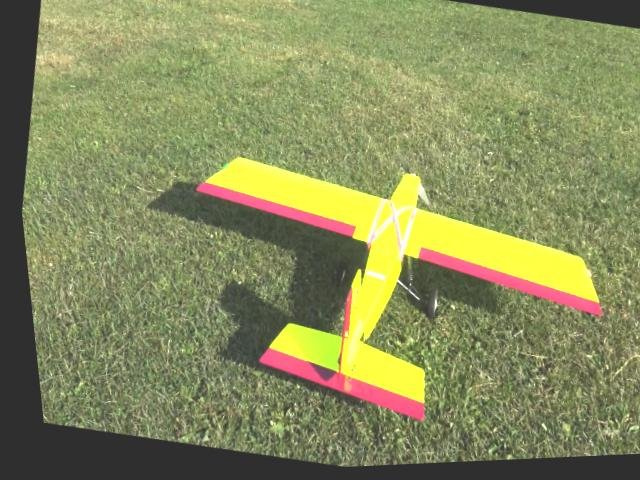plane: (147, 130, 625, 467)
